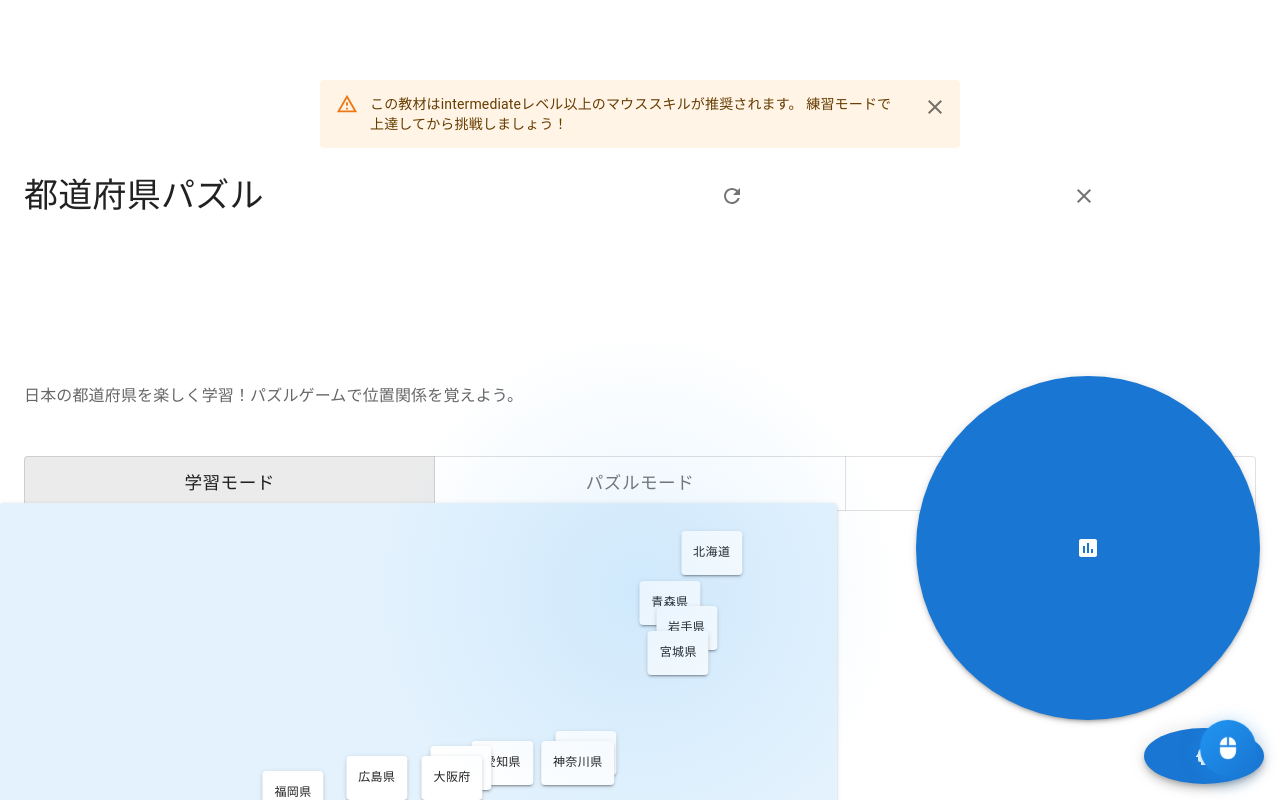
Test: PrefecturePuzzleWithPractice › ドラッグ＆ドロップ機能 › パズルモードに切り替えるとドラッグ可能な要素が存在する
The image size is (1280, 800).
// パズルモードに切り替え
Click the button "パズルモード".
click(640, 483)  # box [434,456,846,511]
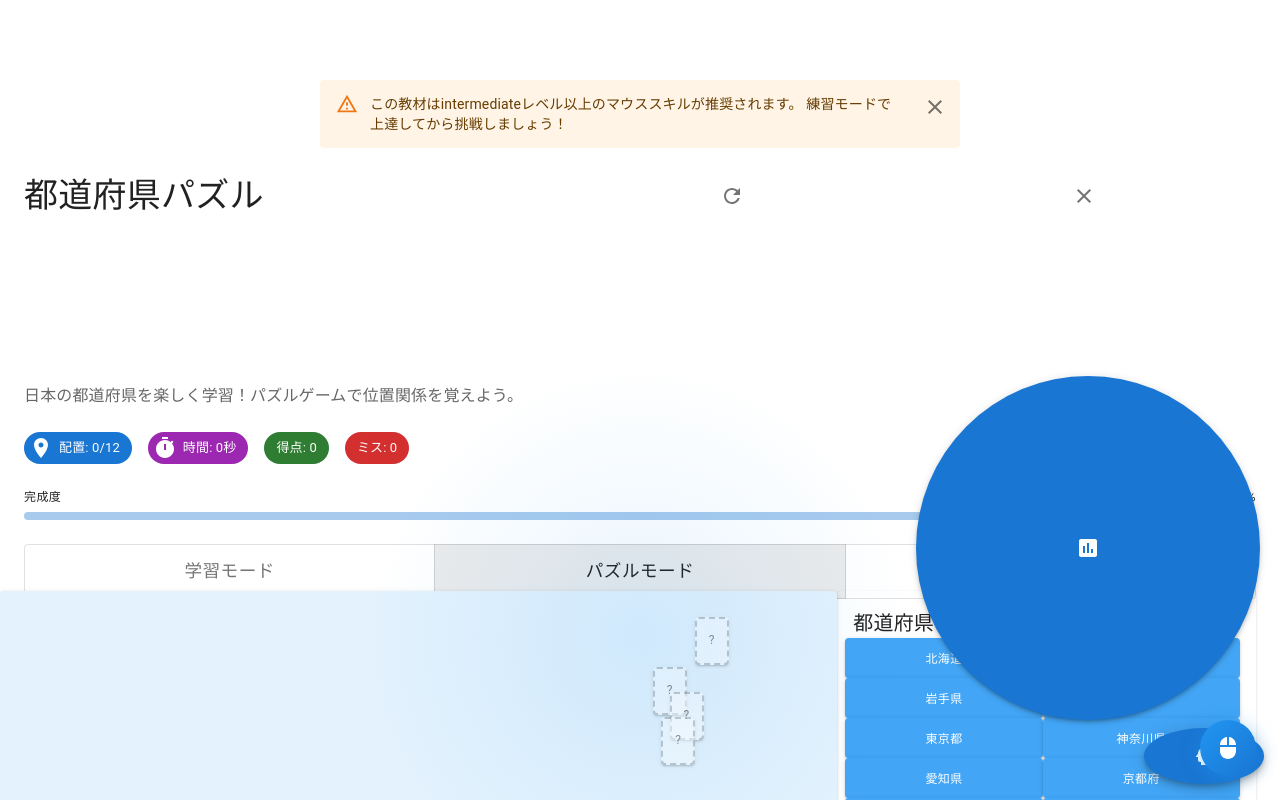
Expected: the heading "都道府県を配置しよう" is shown, [853,611,1055,635]
